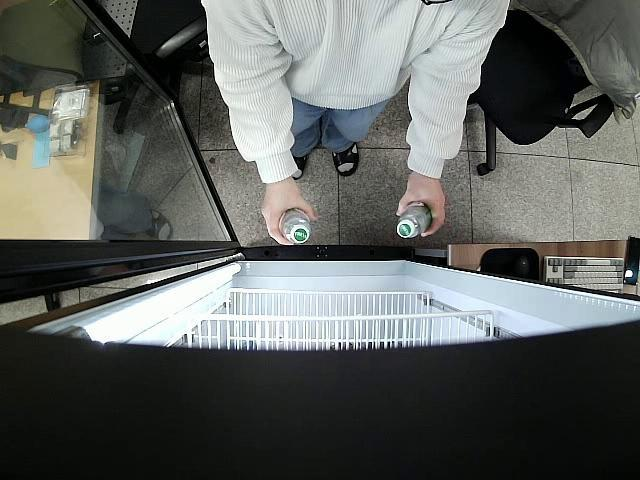18_trevi: (397, 202, 432, 238), (278, 207, 312, 244)
